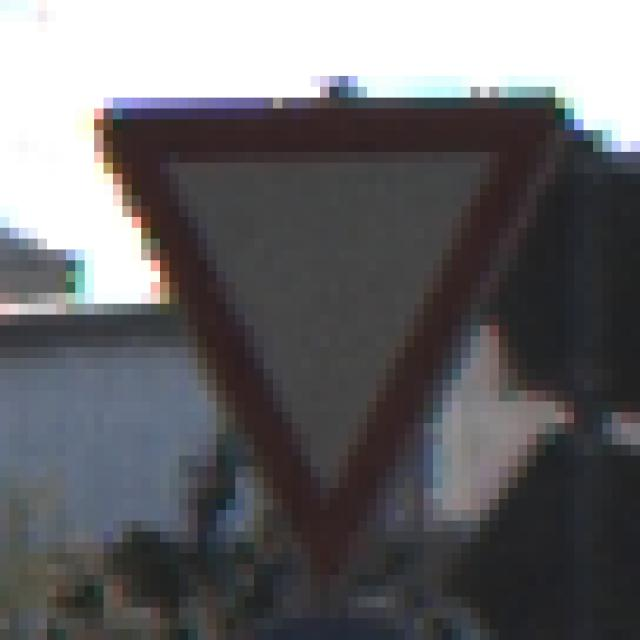Give Way: (58, 55, 575, 576)
